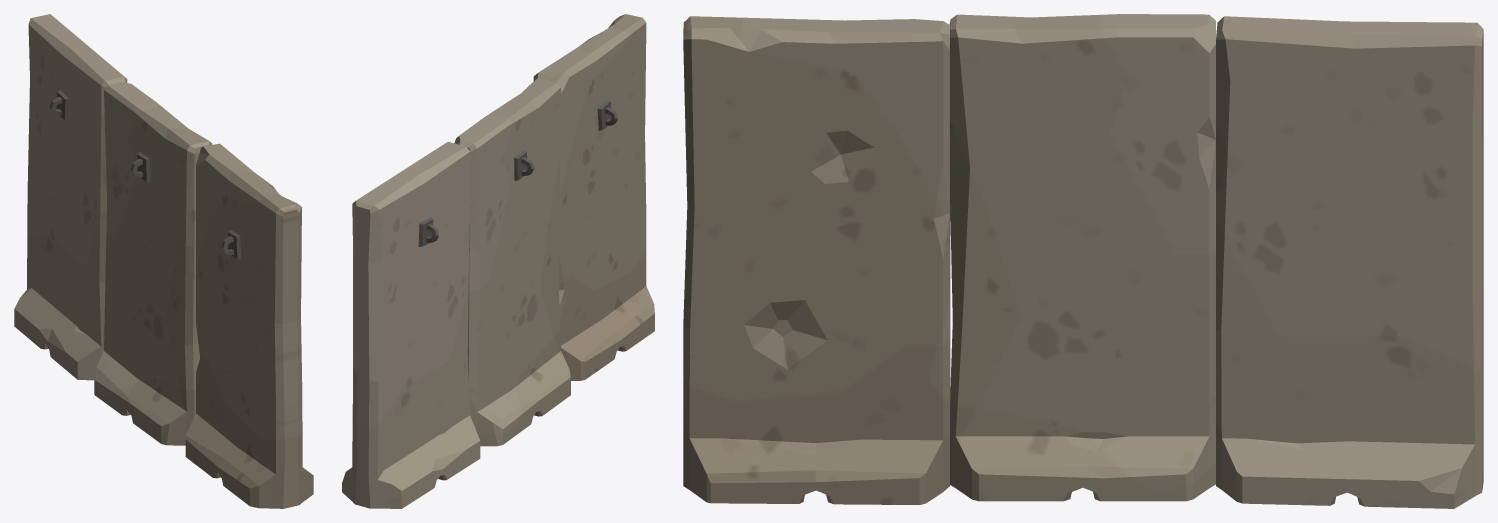
File: SM_Prop_Barrier_Tall_Group_01.glb
The picture shows the model from 3 angles, left to right: view 1: azimuth 30°, elevation 25°; view 2: azimuth 150°, elevation 25°; view 3: azimuth 270°, elevation 25°; orthographic projection. The views are drawn at different scales.
Parts seen in each view (by area): view 1: SM_Prop_Barrier_Tall_Group_01; view 2: SM_Prop_Barrier_Tall_Group_01; view 3: SM_Prop_Barrier_Tall_Group_01.
Boxes of the visible parts, box(x1,y1,x2,y2) form: SM_Prop_Barrier_Tall_Group_01: box(14, 14, 313, 508); SM_Prop_Barrier_Tall_Group_01: box(342, 14, 654, 508); SM_Prop_Barrier_Tall_Group_01: box(683, 14, 1483, 508).
Bounding box in the file's own units: 0.8157 × 3.26 × 5.17.
Materials: 1 (1 with a texture image).
